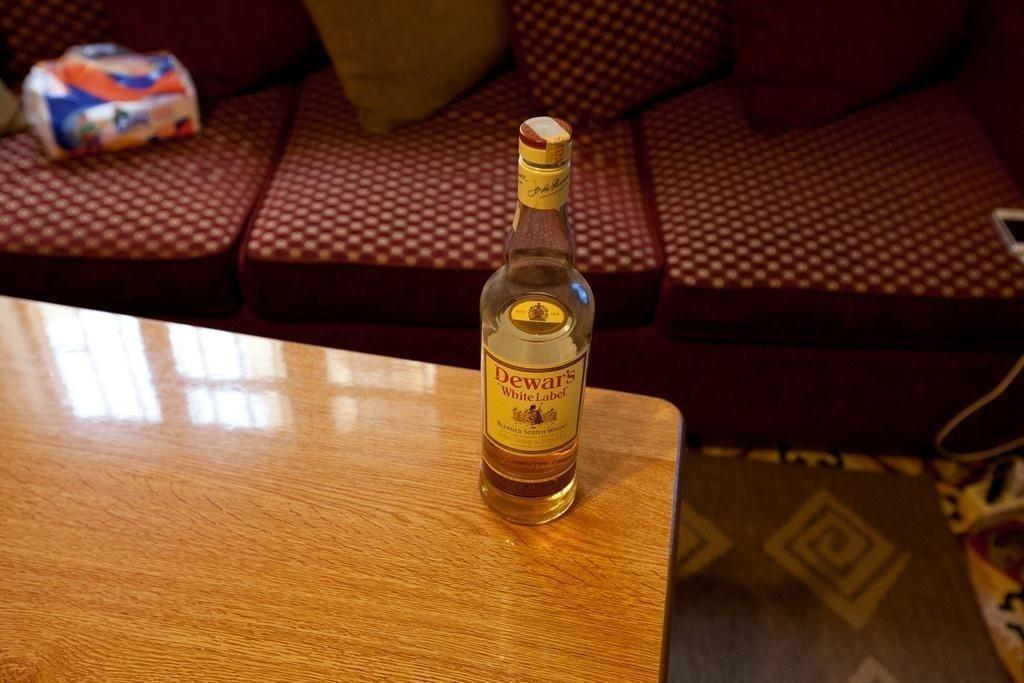bottle-glass: (470, 113, 599, 531)
